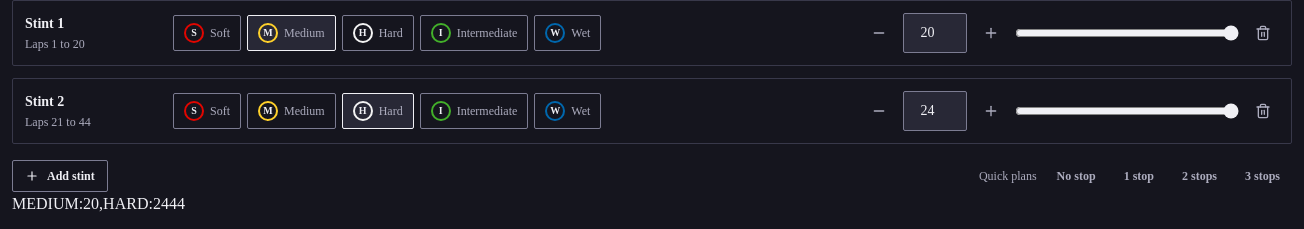
it: StintEditor › changes a stint's tyre
Click the radio button labelled "S Soft" in the row of "21" at (207, 111), box 173,93 -> 241,129
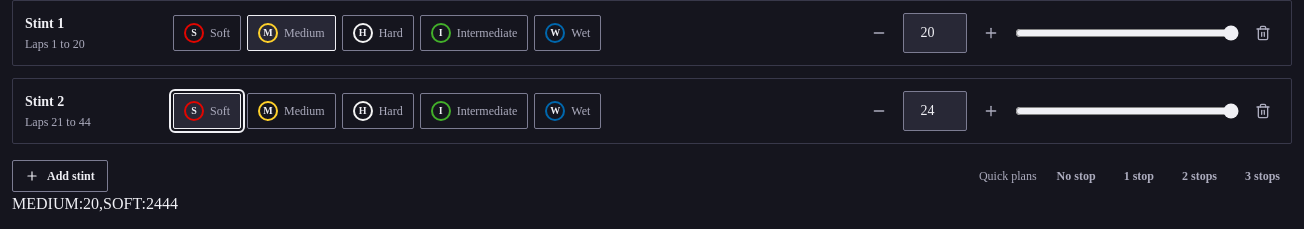
Now the text named "plan" reads "MEDIUM:20,SOFT:24", box 12,195 -> 162,212
